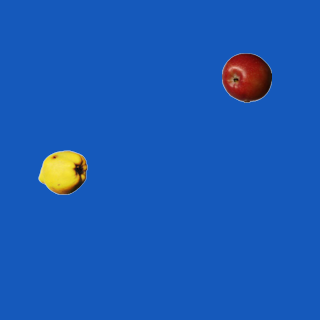Apple Braeburn: (221, 52, 271, 102)
Quince: (37, 147, 87, 197)
